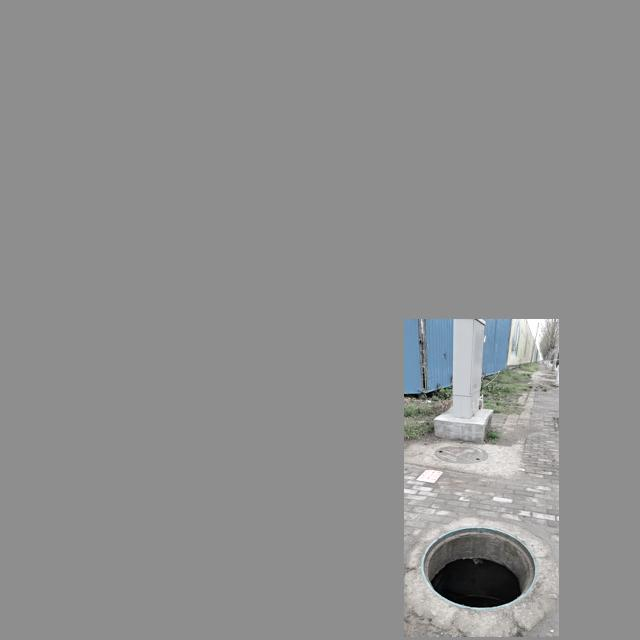lose: (420, 525, 539, 610)
